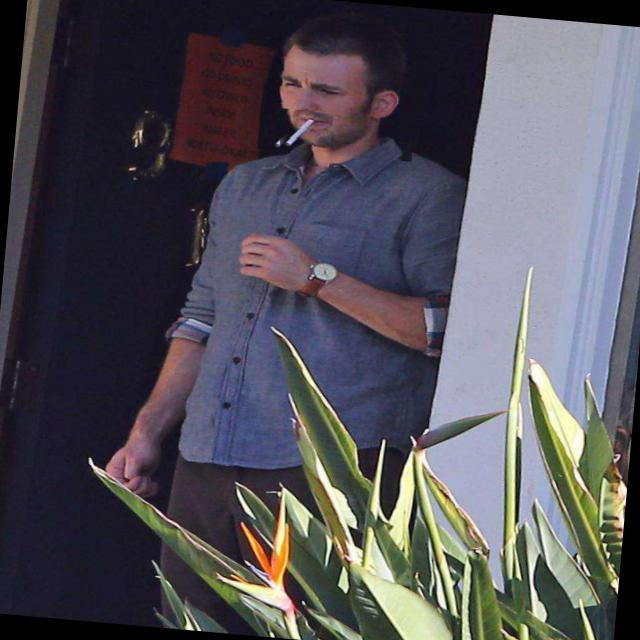cigarette: (275, 108, 334, 167)
